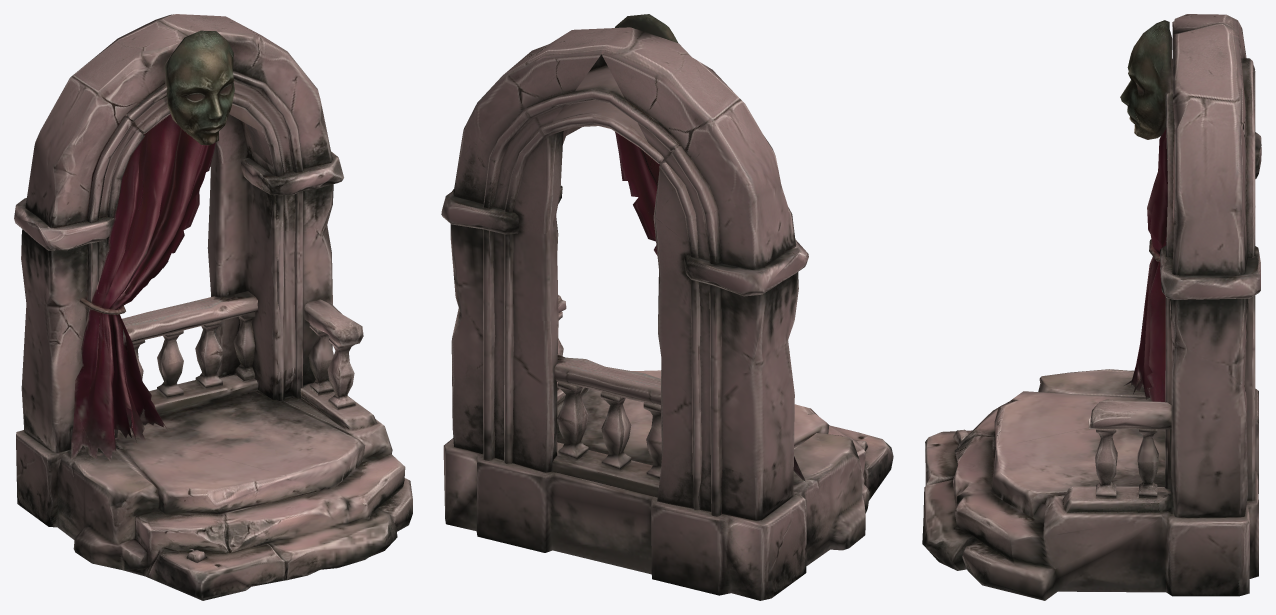
File: lust-niche.glb
3 views of the same model, side by side, from view 1: azimuth 30°, elevation 25°; view 2: azimuth 150°, elevation 25°; view 3: azimuth 270°, elevation 25° (orthographic). The views are drawn at different scales.
Bounding box in the file's own units: 0.6636 × 0.9536 × 0.5898.
1 material, 1 textured.
